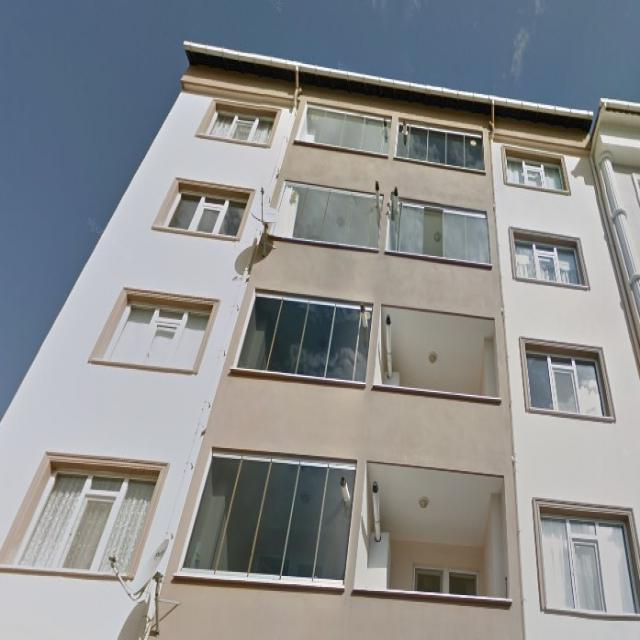Building: (0, 40, 640, 640)
